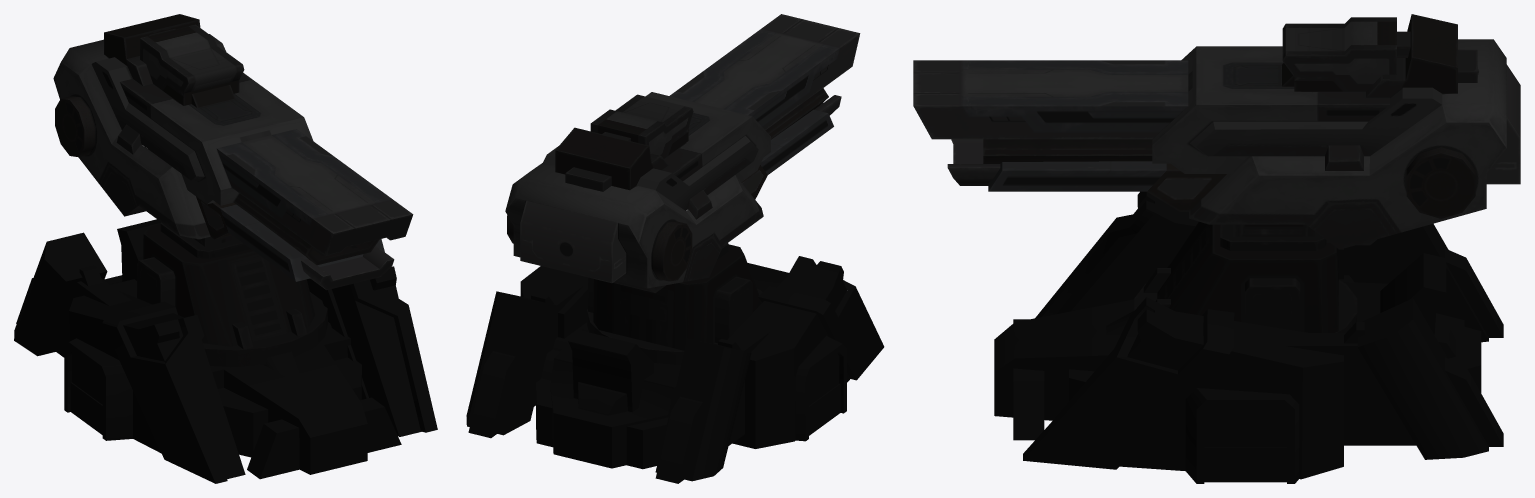
The model's file is turret-cannon.glb.
The picture shows the model from 3 angles, left to right: view 1: azimuth 30°, elevation 25°; view 2: azimuth 150°, elevation 25°; view 3: azimuth 270°, elevation 25°; orthographic projection. The views are drawn at different scales.
Visible parts, largest first — view 1: turret-cannon, turret-cannon-3, turret-cannon-1; view 2: turret-cannon, turret-cannon-3, turret-cannon-1; view 3: turret-cannon-3, turret-cannon, turret-cannon-1, turret-cannon-2.
Part boxes in pixels (x1,y1,x2,y2): turret-cannon: (14, 219, 437, 483); turret-cannon-3: (53, 14, 413, 290); turret-cannon-1: (137, 222, 327, 366); turret-cannon: (466, 256, 884, 483); turret-cannon-3: (505, 14, 860, 292); turret-cannon-1: (587, 243, 762, 364); turret-cannon-3: (913, 14, 1520, 249); turret-cannon: (994, 191, 1503, 483); turret-cannon-1: (1134, 221, 1357, 332); turret-cannon-2: (1233, 224, 1314, 236).
Bounding box in the file's own units: 6.09 × 6.16 × 9.26.
Materials: 3 (2 with a texture image).
